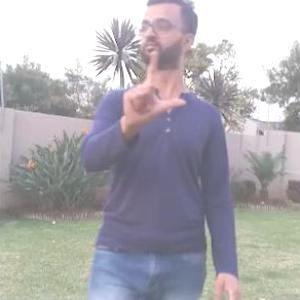land_hand: (117, 48, 188, 132)
